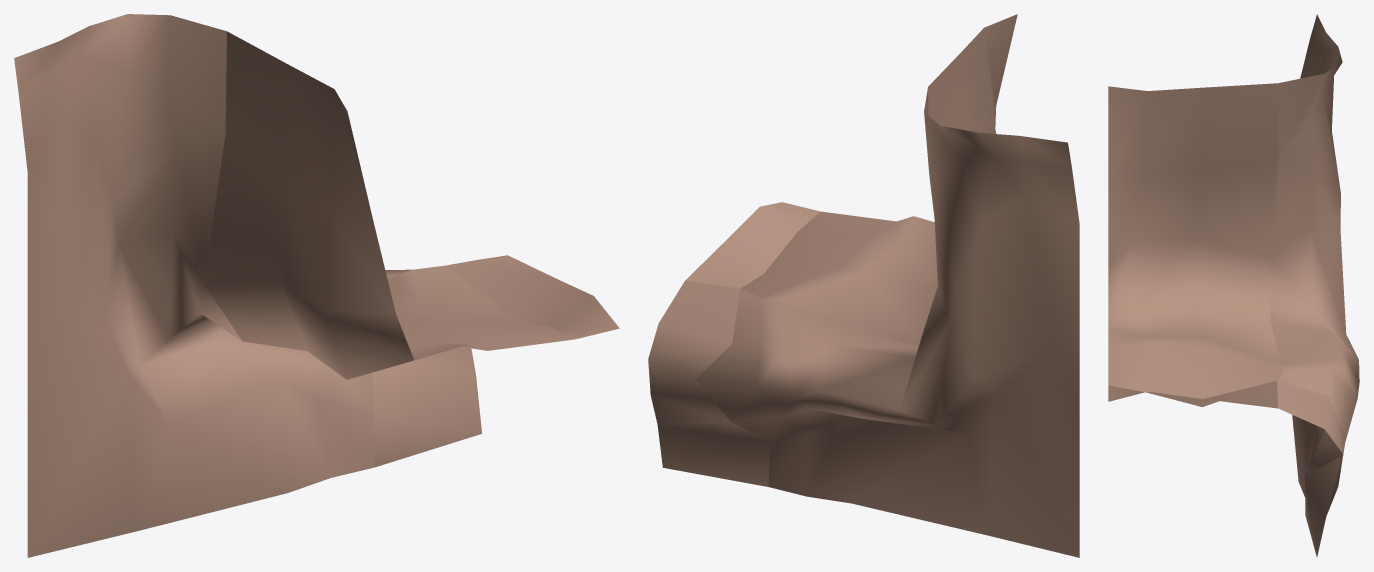
File: corner top.fbx
The picture shows the model from 3 angles, left to right: view 1: azimuth 30°, elevation 25°; view 2: azimuth 150°, elevation 25°; view 3: azimuth 270°, elevation 25°; orthographic projection. The views are drawn at different scales.
Visible parts, largest first — view 1: pasted__polySurface3; view 2: pasted__polySurface3; view 3: pasted__polySurface3.
Boxes of the visible parts, x1,y1,x2,y2 form: pasted__polySurface3: (14,14,619,557); pasted__polySurface3: (648,14,1079,557); pasted__polySurface3: (1108,14,1359,557).
Size of the model in its own units: 11 by 11 by 6.75.
